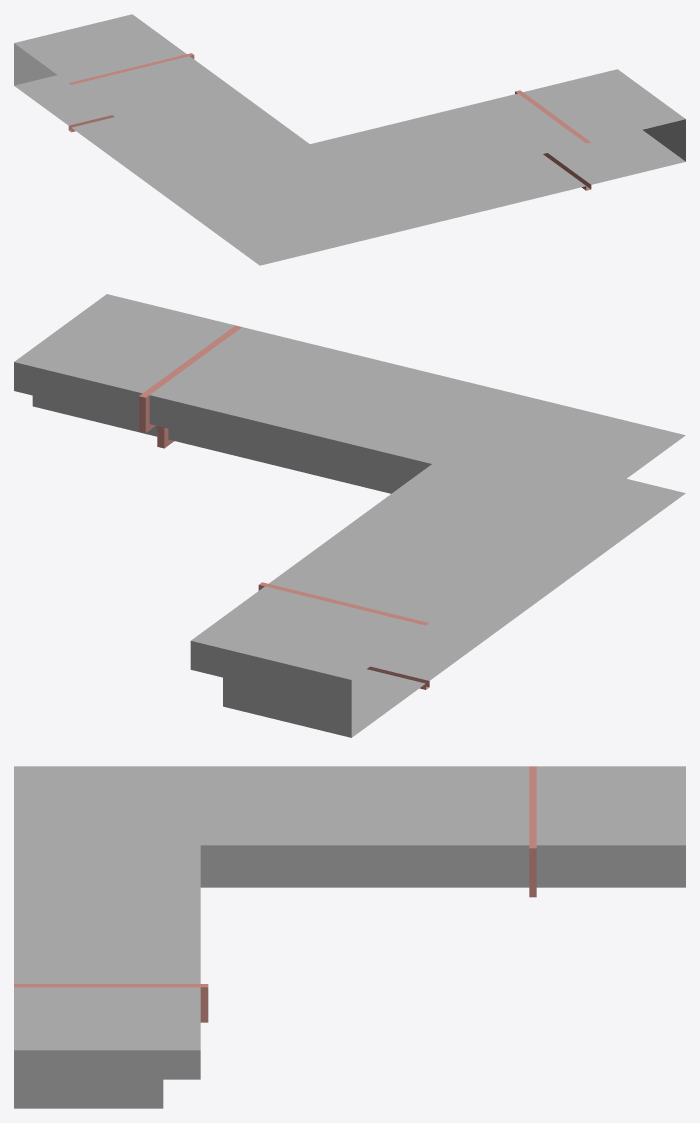
File: balcon_Snap.fbx
3 renders of one model, top to bottom at view 1: azimuth 30°, elevation 25°; view 2: azimuth 150°, elevation 25°; view 3: azimuth 270°, elevation 25°, orthographic. The views are drawn at different scales.
Visible parts, largest first — view 1: encorbellement; view 2: encorbellement; view 3: encorbellement.
Boxes of the visible parts, box(x1,y1,x2,y2) form: encorbellement: box(14, 14, 685, 265); encorbellement: box(14, 294, 685, 737); encorbellement: box(14, 766, 685, 1108).
Size of the model in its own units: 0.1715 by 0.0182 by 0.1715.
